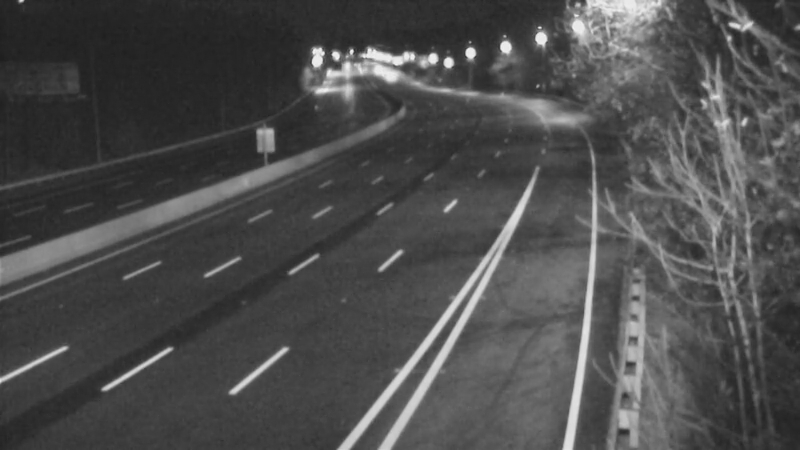vehicle: (365, 51, 415, 101)
